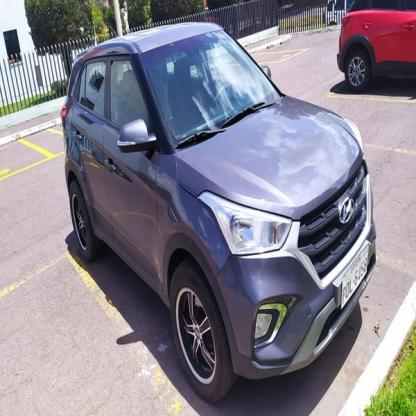Placa: (333, 236, 374, 313)
